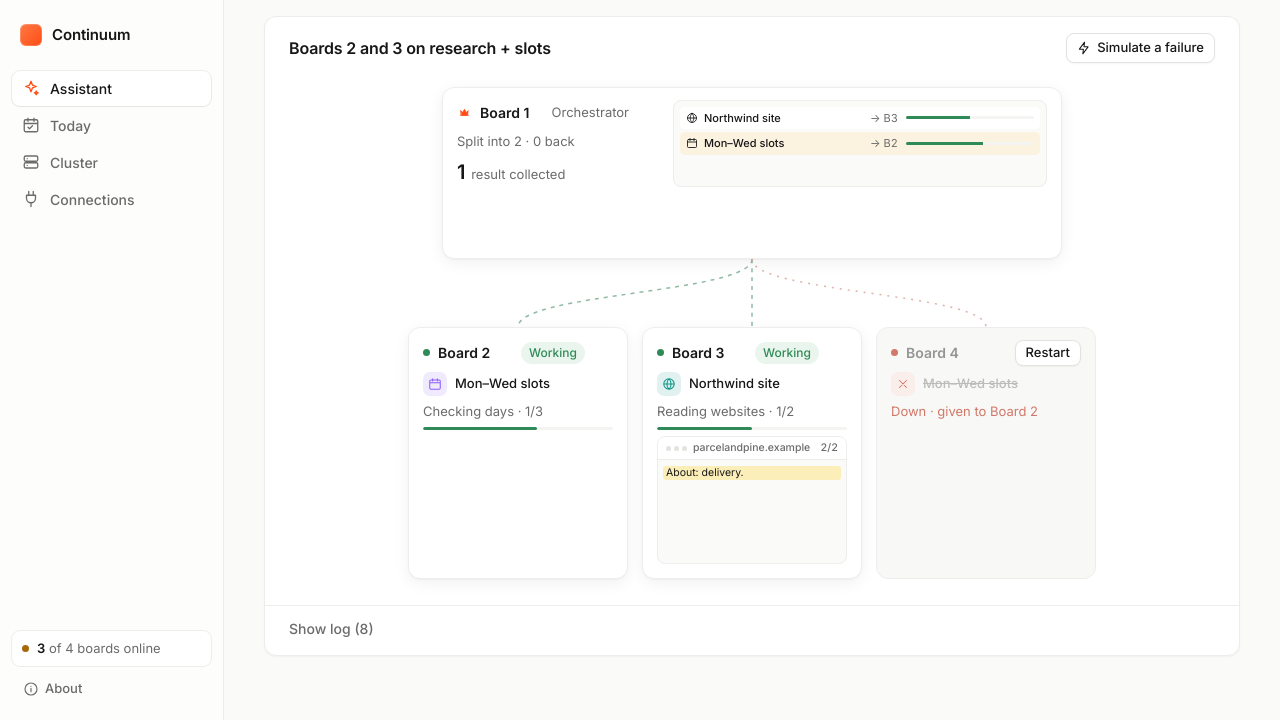
Test case: Assistant: watch › keeps the log folded until asked for
(page scrolled)
Click the button "Show log (8)". click: (331, 628)
box: left=289, top=618, right=374, bottom=638
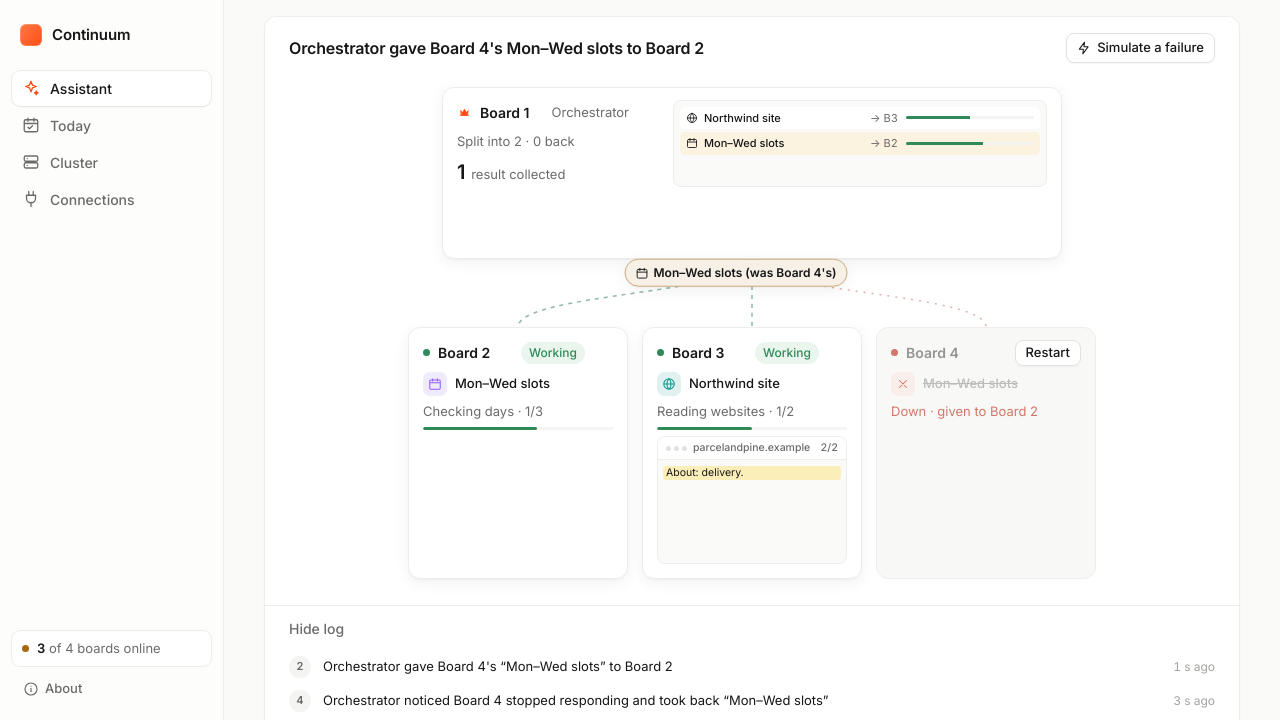
Expected: the text "Orchestrator gave Board 4's “Mon–Wed slots” to Board 2" is shown, left=323, top=658, right=673, bottom=674
